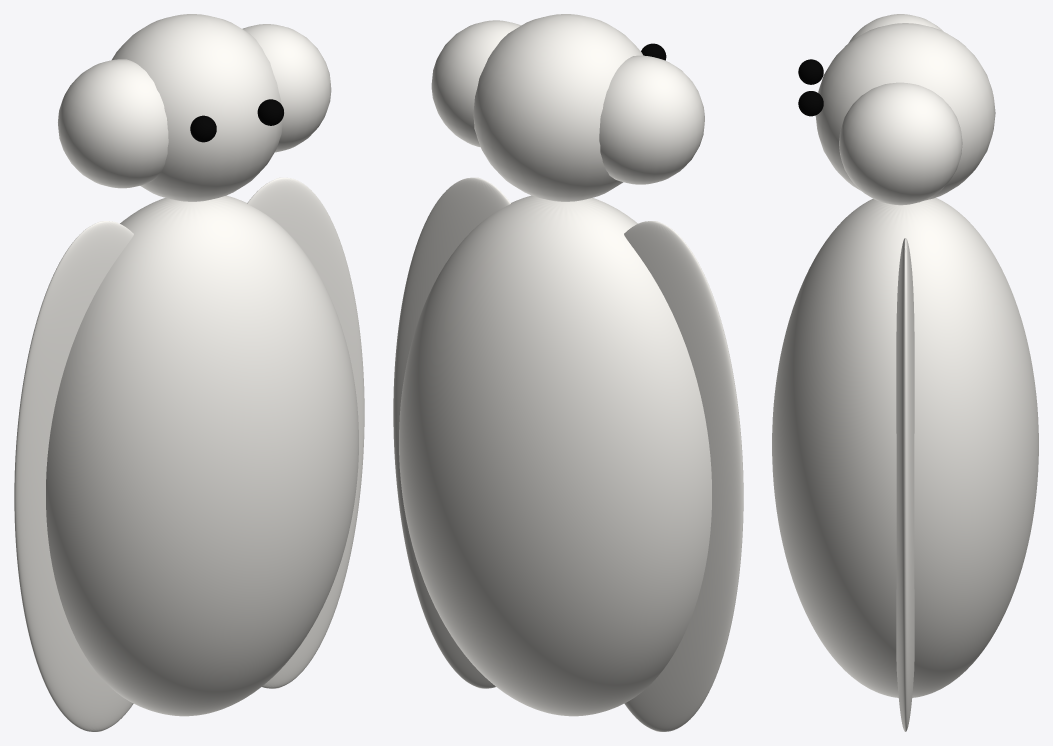
File: baymax-demo.glb
3 views of the same model, side by side, from view 1: azimuth 30°, elevation 25°; view 2: azimuth 150°, elevation 25°; view 3: azimuth 270°, elevation 25° (orthographic). The views are drawn at different scales.
Parts seen in each view (by area): view 1: Body, Body.001, Head, Head.003, Body.002, Head.004, Pupil_R, Pupil_L; view 2: Body, Body.001, Head, Head.003, Body.002, Head.004; view 3: Body, Head, Head.004, Body.002, Head.003, Pupil_R, Pupil_L.
Part boxes in pixels (x1,y1,x2,y2): Body: [46, 195, 358, 716]; Body.001: [14, 221, 133, 731]; Head: [112, 14, 282, 201]; Head.003: [58, 59, 168, 188]; Body.002: [247, 177, 364, 688]; Head.004: [242, 24, 331, 152]; Pupil_R: [190, 115, 216, 142]; Pupil_L: [257, 99, 283, 125]; Body: [399, 195, 711, 716]; Body.001: [624, 221, 743, 731]; Head: [473, 14, 643, 201]; Head.003: [599, 55, 704, 184]; Body.002: [393, 177, 510, 688]; Head.004: [431, 20, 520, 147]; Body: [772, 197, 1038, 697]; Head: [815, 23, 995, 200]; Head.004: [839, 82, 962, 205]; Body.002: [896, 238, 914, 731]; Head.003: [848, 14, 943, 43]; Pupil_R: [798, 59, 823, 84]; Pupil_L: [798, 91, 823, 116].
Bounding box in the file's own units: 2.29 × 4.29 × 1.58.
4 materials, 2 textured.
